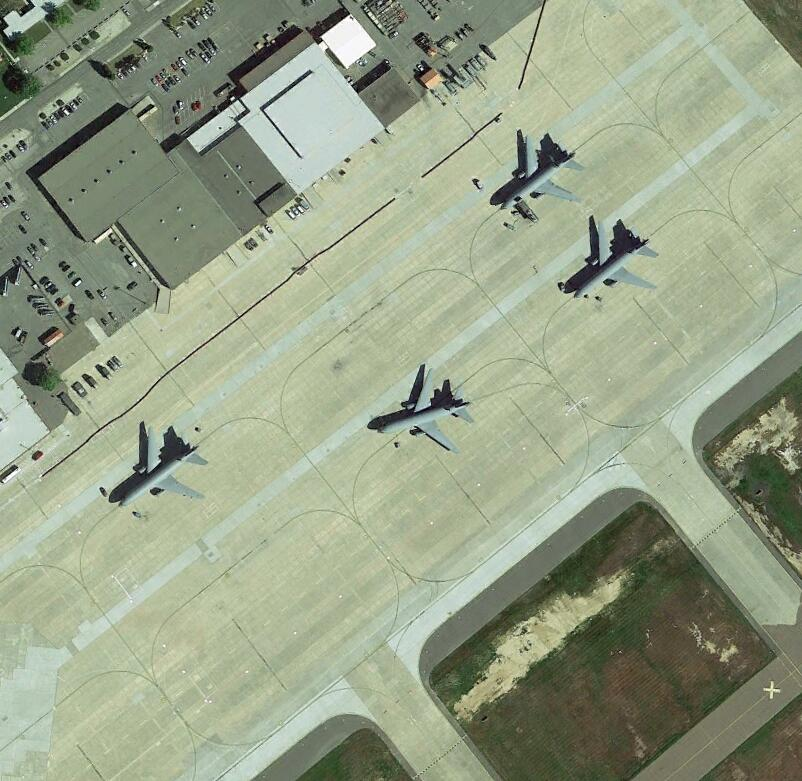A18: (373, 367, 477, 456), (112, 425, 209, 511), (565, 216, 660, 303), (495, 132, 582, 212)
